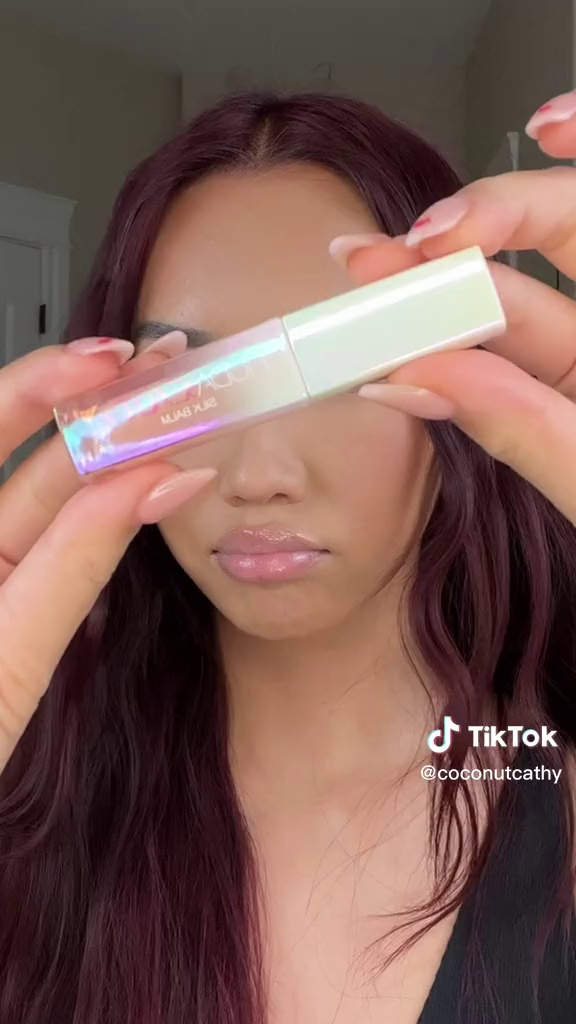train' :'yolo_data/train/images',: (44, 234, 513, 490)
